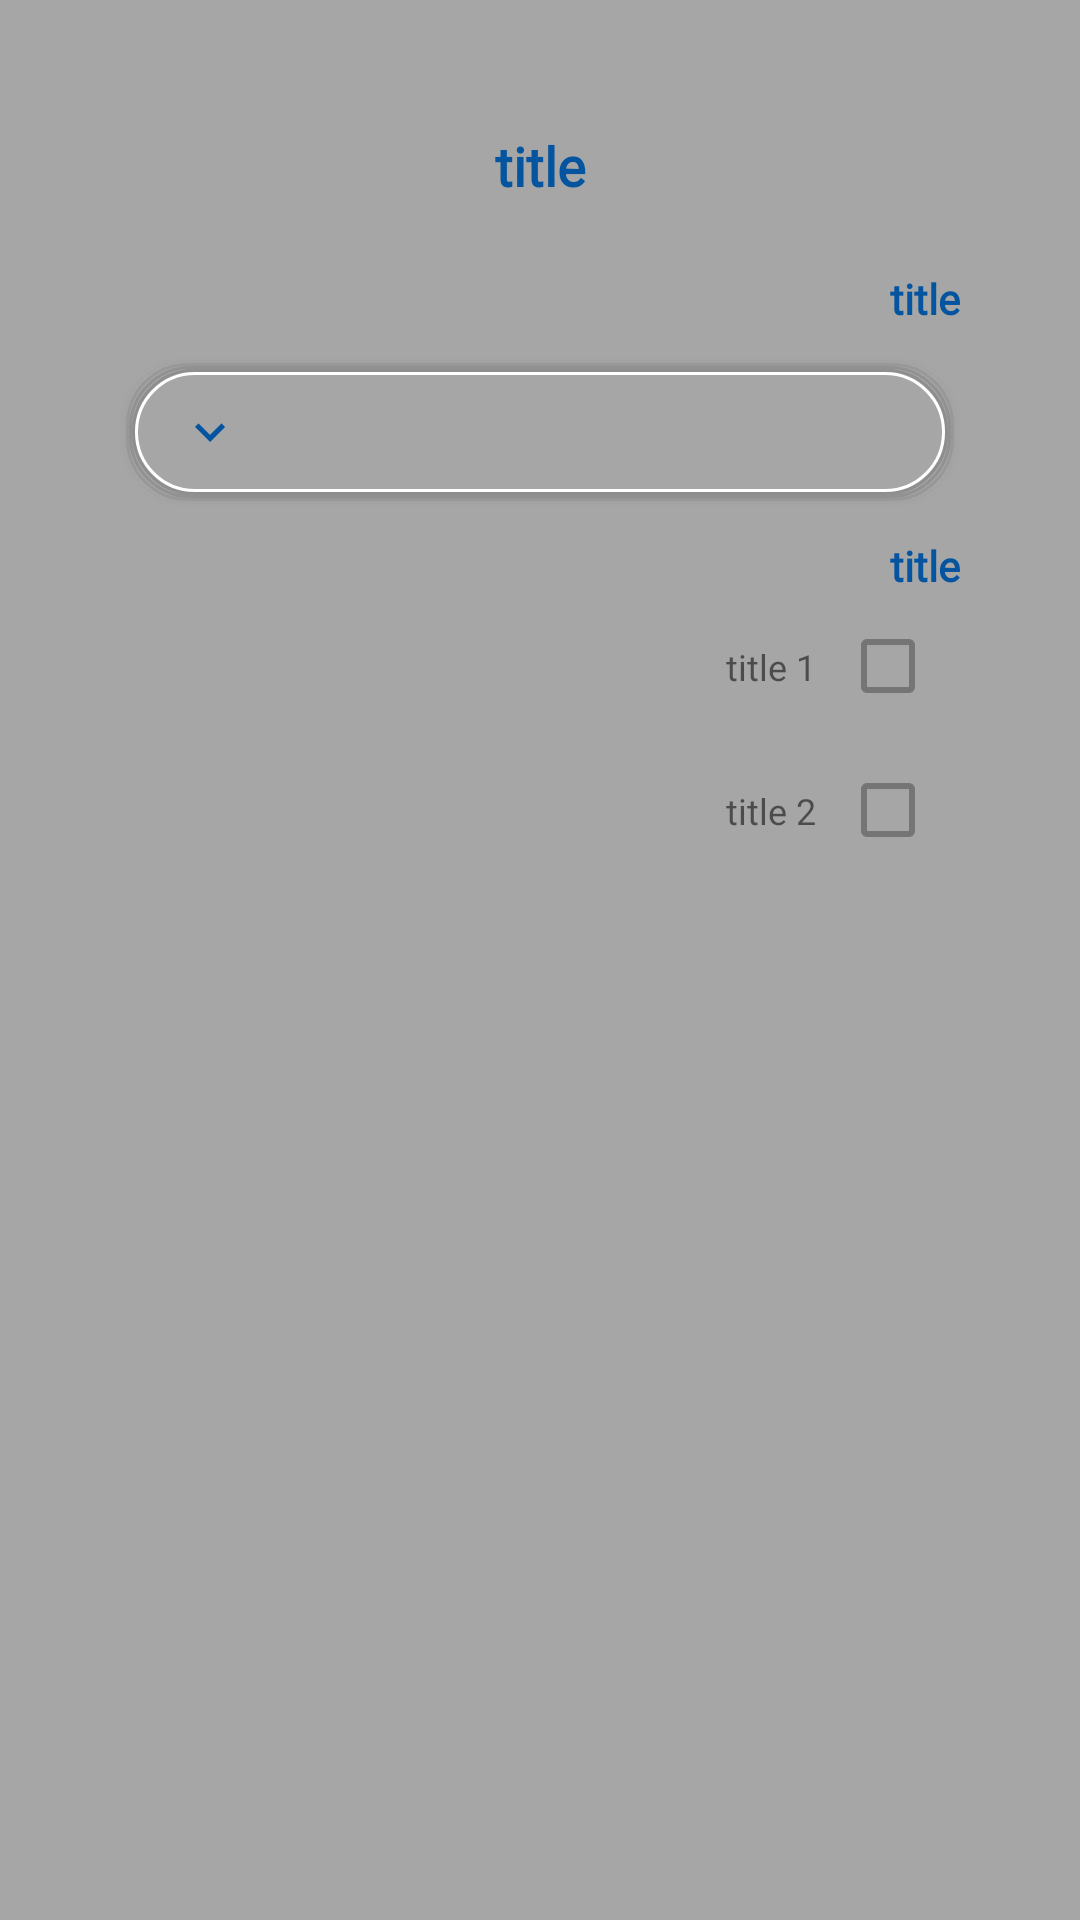

Where icons sit on this 1080x1920 app screen, as (x1, y1, x2, y2):
down arrow: (195, 423, 225, 442)
